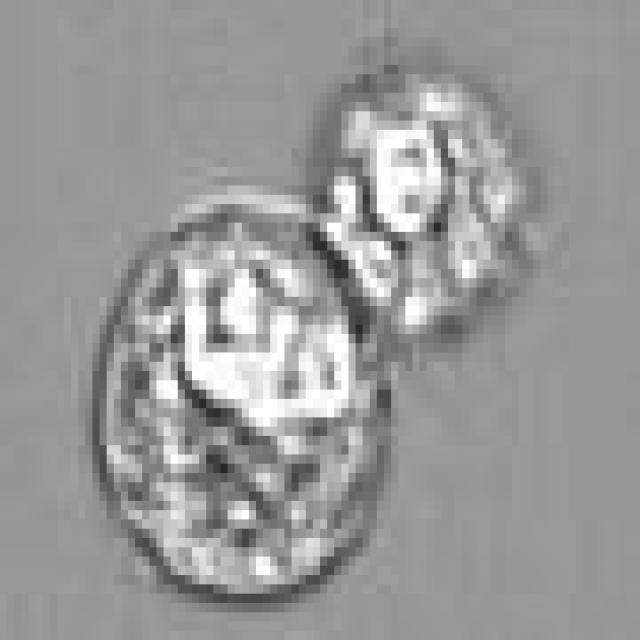Cancer Cell: (100, 194, 391, 594)
WBC: (320, 65, 540, 334)
